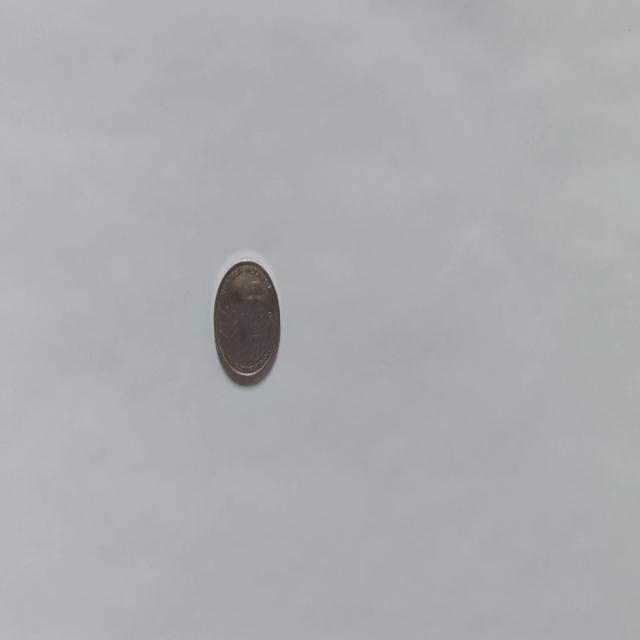seribu rupiah koin: (212, 255, 281, 386)
